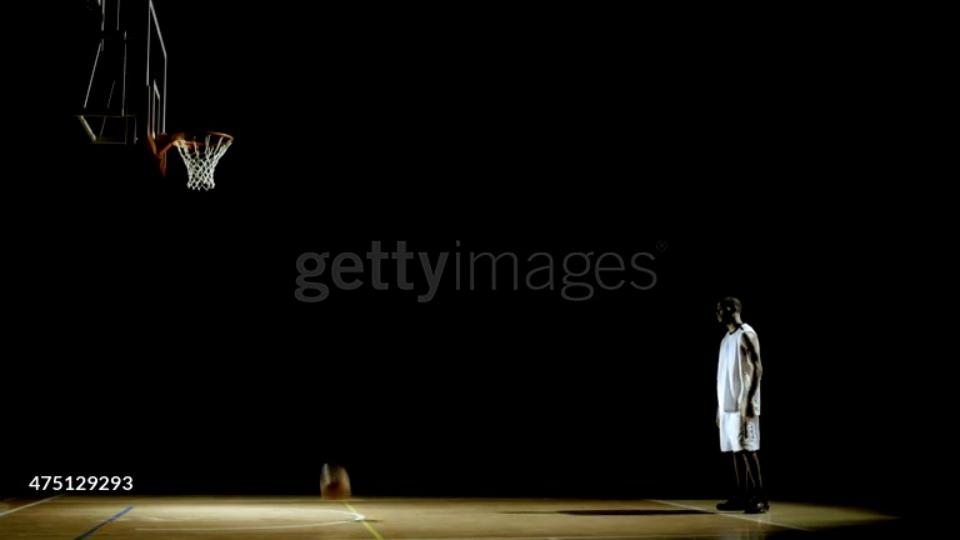hoop: (155, 123, 239, 153)
